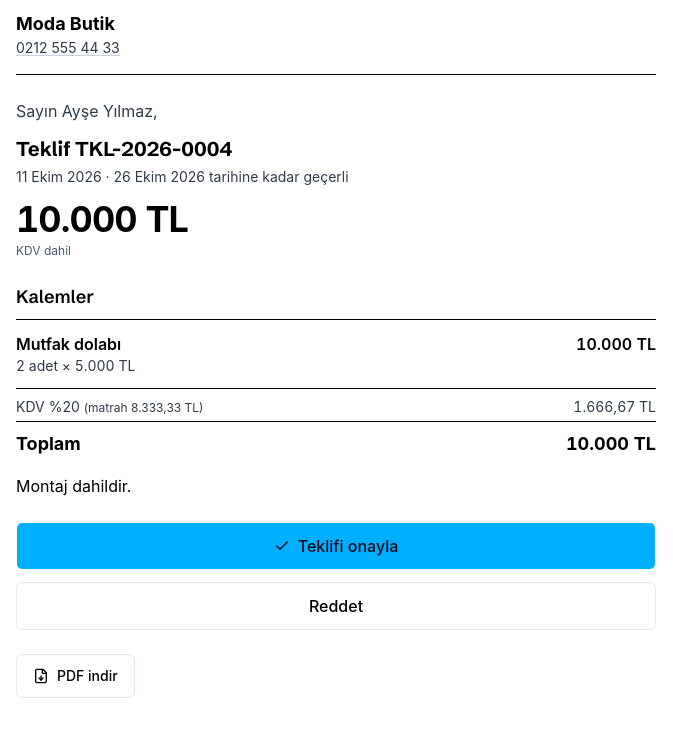
Scenario: QuoteView › rejects with an optional note
Click the button "Reddet".
click(336, 606)  # box [16,582,656,630]
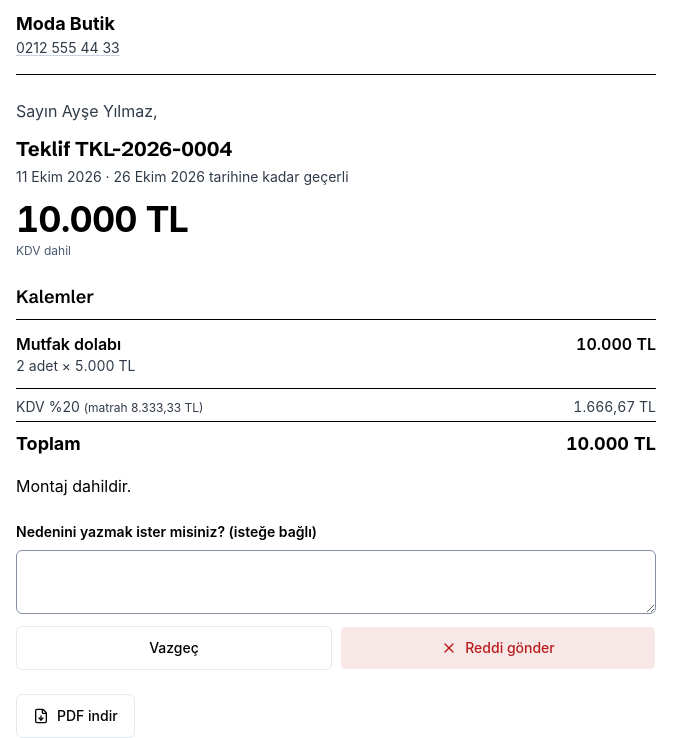
Type "Fiyat yüksek" into the text box.
click(336, 582); type("Fiyat yüksek")  # box [16,550,656,614]
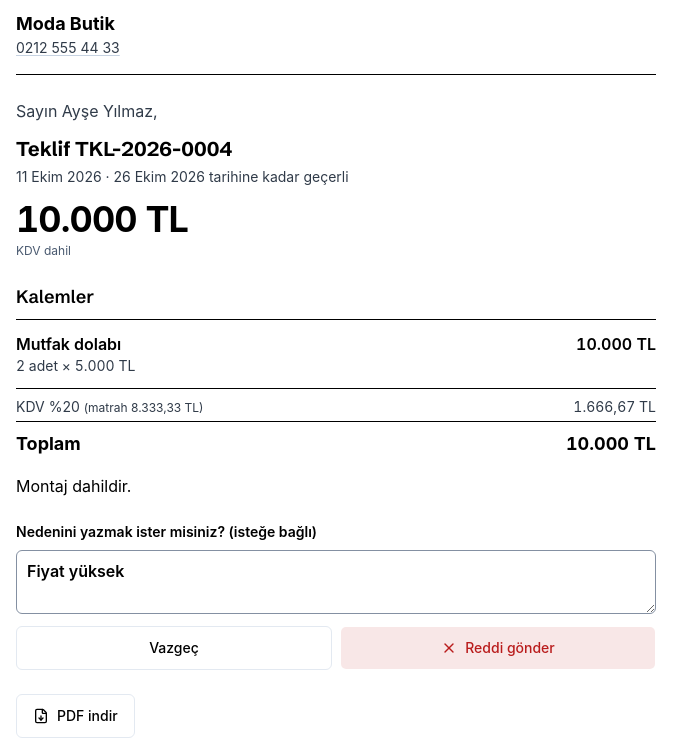
Click the button "Reddi gönder".
click(498, 648)  # box [340,626,656,670]
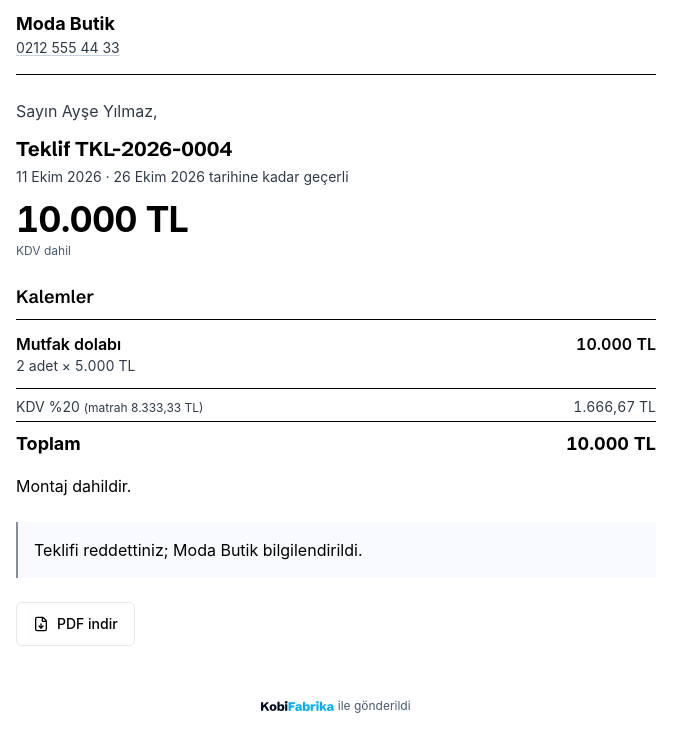
Result: the text "Teklifi reddettiniz; Moda Butik bilgilendirildi." is shown at [16,522,656,578]
